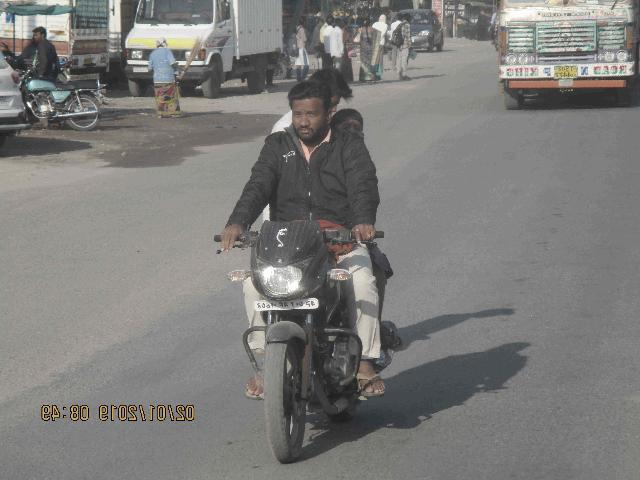motor: (214, 223, 403, 467)
non-helm: (287, 84, 333, 143), (307, 64, 354, 116), (330, 107, 367, 148)
